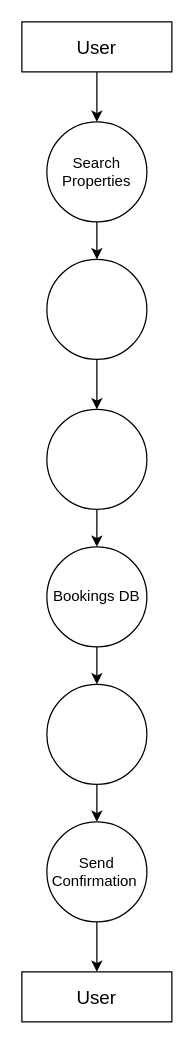
Image size: 194x1044. Some labels were removed from this diagram. The shapes that lost their labels are listed below. From the top down, each one's box as (x1, y1, x2, y2) in pixels, then its label:
(46, 258, 147, 359): Properties DB
(46, 408, 147, 509): Create Booking
(46, 683, 147, 784): Process Payment
